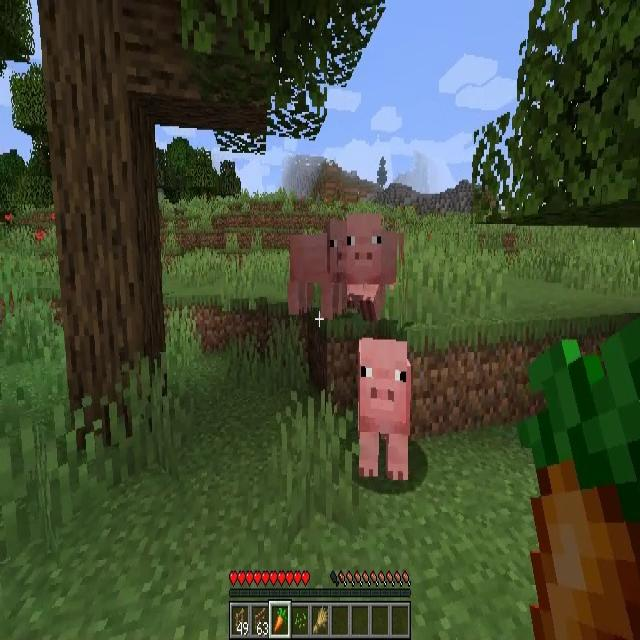pig: (358, 344, 411, 475), (288, 217, 344, 315), (346, 216, 394, 306)
